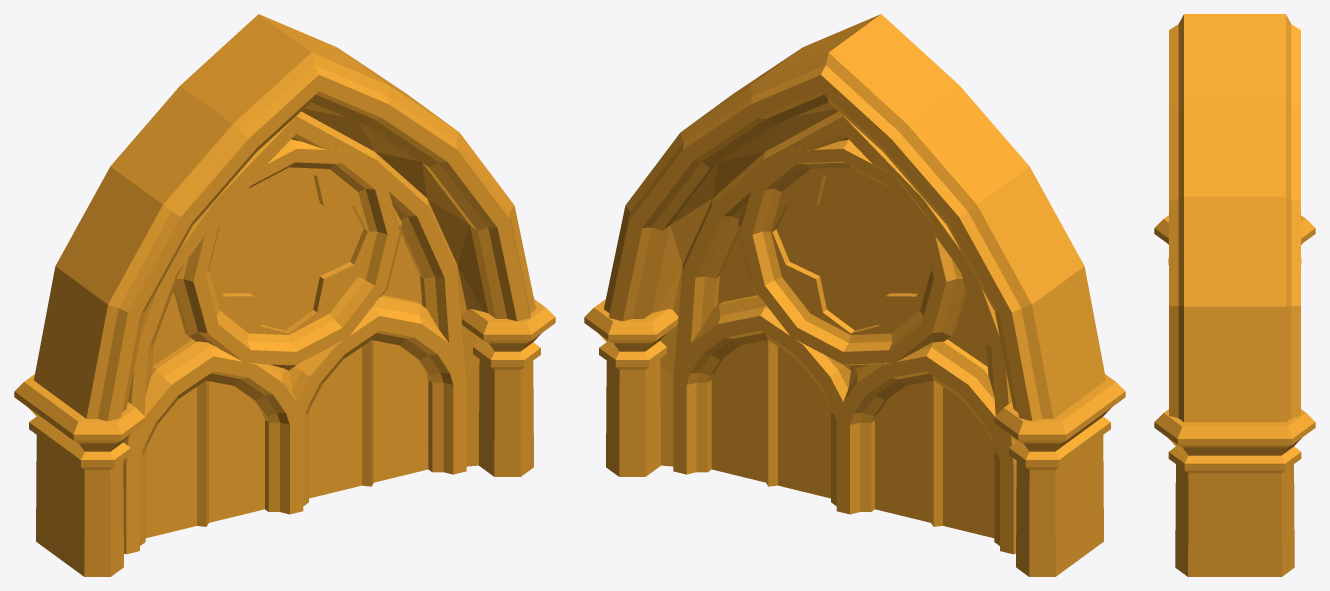
Rendered from SM_Window_Stone_Modular_A_Top_Fantasy.fbx.
The picture shows the model from 3 angles, left to right: view 1: azimuth 30°, elevation 25°; view 2: azimuth 150°, elevation 25°; view 3: azimuth 270°, elevation 25°; orthographic projection. The views are drawn at different scales.
Visible parts, largest first — view 1: SM_Window_Stone_Modular_A_Top_Fantasy; view 2: SM_Window_Stone_Modular_A_Top_Fantasy; view 3: SM_Window_Stone_Modular_A_Top_Fantasy.
Part boxes in pixels (box(x1,y1,x2,y2)): SM_Window_Stone_Modular_A_Top_Fantasy: box(14, 14, 555, 576); SM_Window_Stone_Modular_A_Top_Fantasy: box(584, 14, 1125, 576); SM_Window_Stone_Modular_A_Top_Fantasy: box(1154, 14, 1315, 576).
Size of the model in its own units: 3.6 by 3.37 by 1.08.
